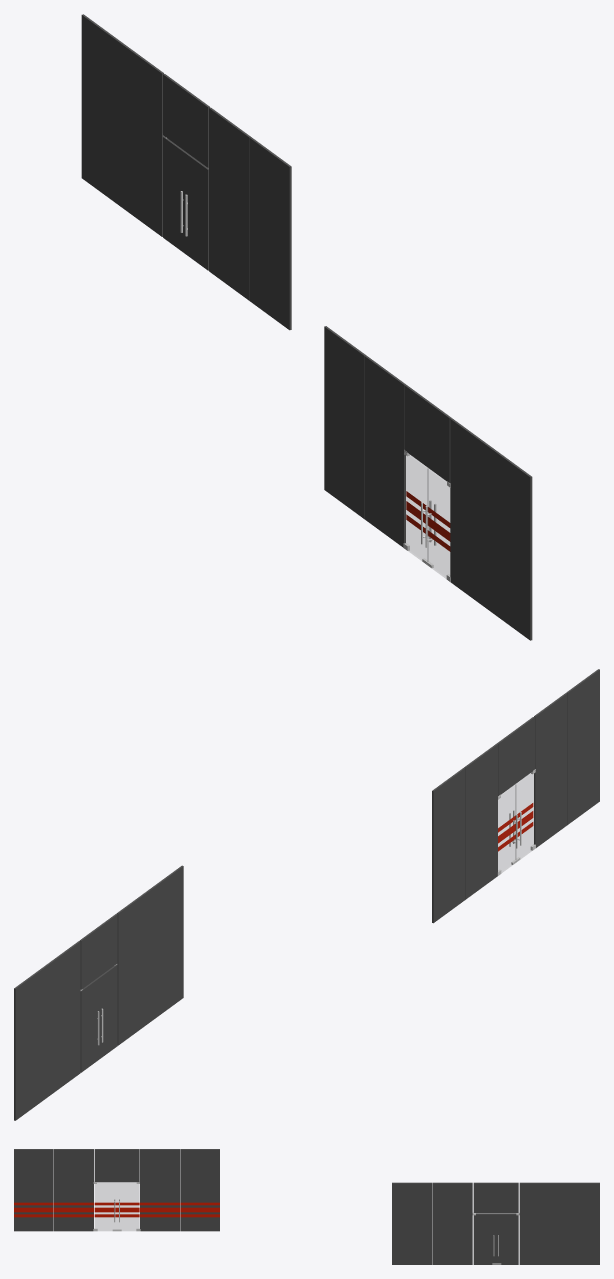
The model's file is glassdoor.fbx.
The picture shows the model from 3 angles, top to bottom: view 1: azimuth 30°, elevation 25°; view 2: azimuth 150°, elevation 25°; view 3: azimuth 270°, elevation 25°; orthographic projection. The views are drawn at different scales.
Visible parts, largest first — view 1: Cube.300, Cube.304, Cube.299, Cube.302, Cube.305, Cube.303, Cube.306, Cube.301, Cube.297, Cube.298; view 2: Cube.300, Cube.299, Cube.302, Cube.304, Cube.305, Cube.303, Cube.301, Cube.306, Cube.298, Cube.297; view 3: Cube.300, Cube.299, Cube.302, Cube.304, Cube.305, Cube.303, Cube.306, Cube.301, Cube.297, Cube.298.
Part boxes in pixels (<box>): Cube.300: <box>209,107,291,330</box>; Cube.304: <box>450,418,532,640</box>; Cube.299: <box>81,14,163,236</box>; Cube.302: <box>324,326,405,547</box>; Cube.305: <box>404,384,451,482</box>; Cube.303: <box>163,74,209,167</box>; Cube.306: <box>185,153,208,270</box>; Cube.301: <box>163,136,186,253</box>; Cube.297: <box>404,454,428,560</box>; Cube.298: <box>427,469,450,578</box>; Cube.300: <box>116,865,183,1045</box>; Cube.299: <box>14,941,80,1120</box>; Cube.302: <box>432,743,497,923</box>; Cube.304: <box>534,669,599,847</box>; Cube.305: <box>497,717,534,795</box>; Cube.303: <box>79,914,117,989</box>; Cube.301: <box>80,978,99,1072</box>; Cube.306: <box>98,964,117,1059</box>; Cube.298: <box>515,773,534,858</box>; Cube.297: <box>498,785,516,872</box>; Cube.300: <box>392,1182,472,1264</box>; Cube.299: <box>519,1182,599,1264</box>; Cube.302: <box>140,1149,219,1231</box>; Cube.304: <box>14,1149,93,1231</box>; Cube.305: <box>94,1149,139,1182</box>; Cube.303: <box>473,1182,518,1213</box>; Cube.306: <box>473,1214,496,1264</box>; Cube.301: <box>496,1214,518,1264</box>; Cube.297: <box>117,1183,139,1230</box>; Cube.298: <box>94,1183,117,1230</box>.
Bounding box in the file's own units: 460 × 481 × 3129.
